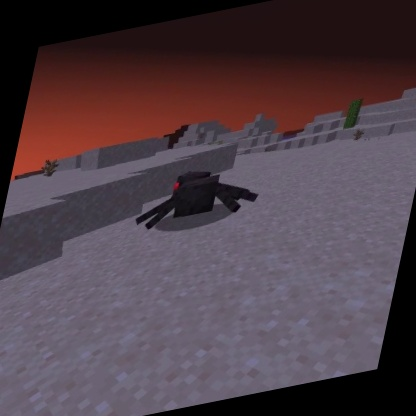spider: (129, 152, 270, 238)
